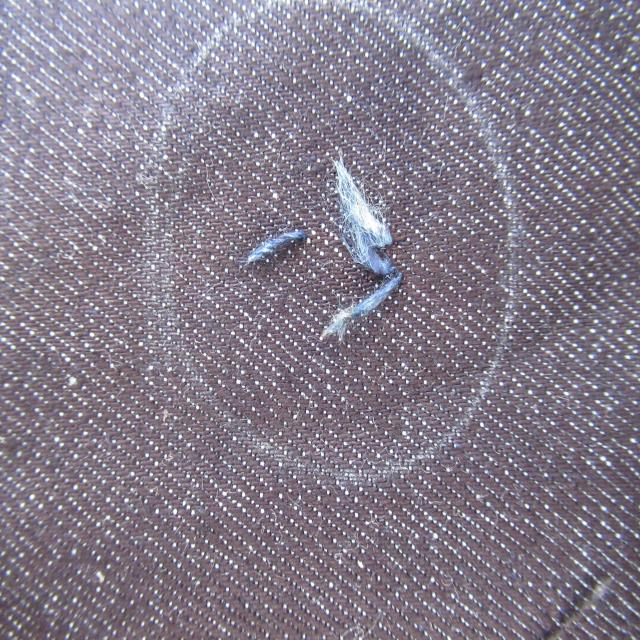selvet: (235, 152, 407, 349)
